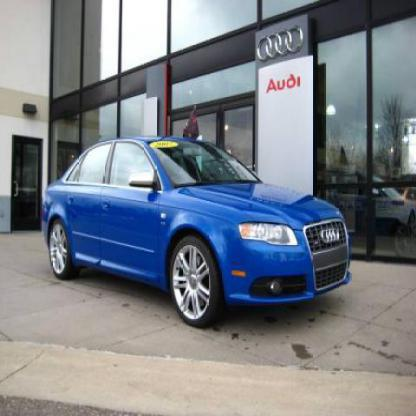Vehicle: (41, 139, 355, 327)
